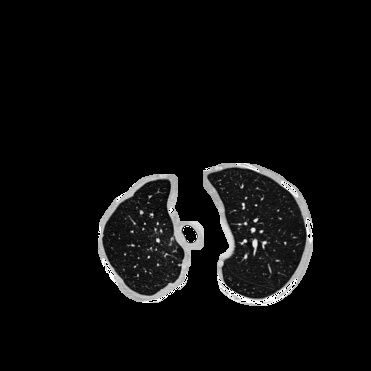PN: (139, 210, 143, 214)
